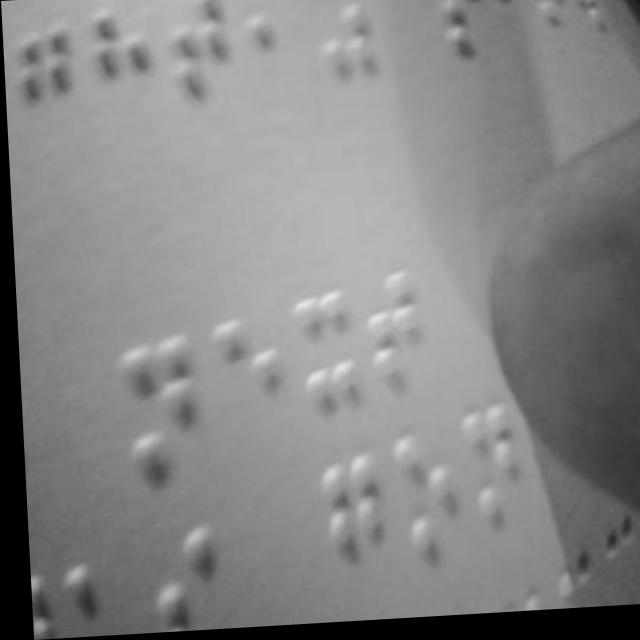braiile: (106, 324, 198, 486), (203, 306, 286, 458), (306, 450, 385, 600), (382, 435, 457, 581), (453, 399, 521, 550), (139, 513, 223, 635), (161, 0, 238, 128), (87, 3, 159, 139), (285, 285, 354, 421), (11, 17, 80, 146), (355, 262, 425, 389), (240, 0, 315, 110), (432, 0, 485, 78)
